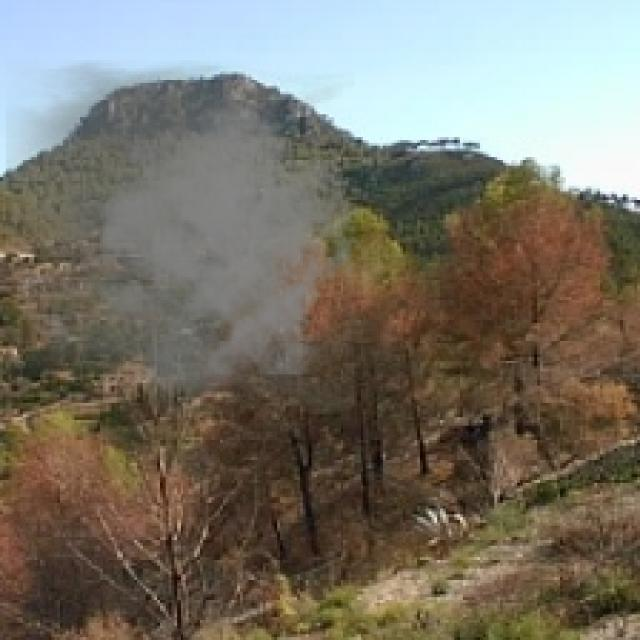Smoke: (6, 59, 366, 414)
